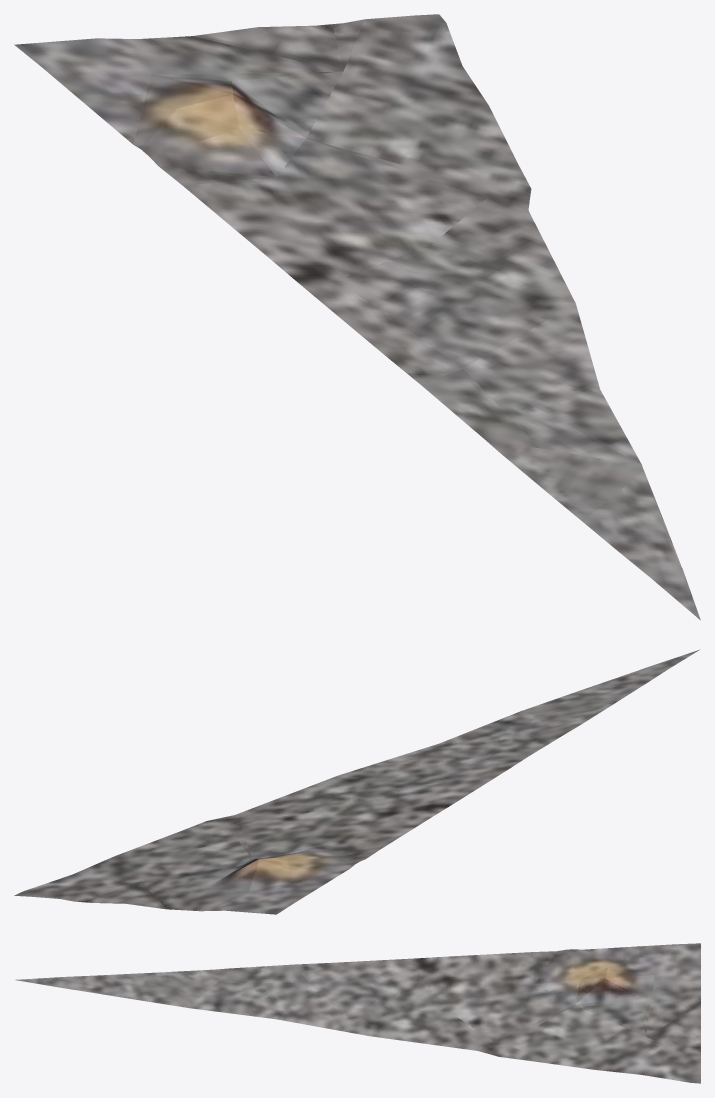
3 views of the same model, one above another, from view 1: azimuth 30°, elevation 25°; view 2: azimuth 150°, elevation 25°; view 3: azimuth 270°, elevation 25° (orthographic). The views are drawn at different scales.
Bounding box in the file's own units: 0.2507 × 0.0413 × 0.7016.
1 material, 1 textured.
